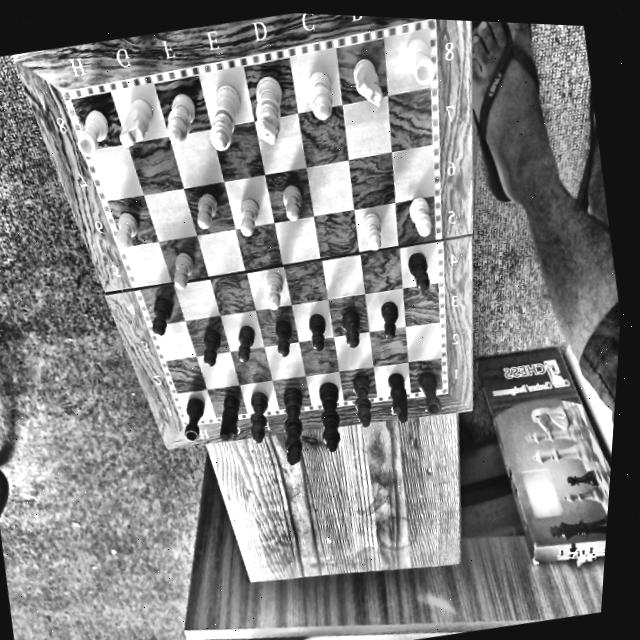black-bishop: (343, 369, 379, 430), (240, 384, 276, 444)
black-king: (270, 381, 316, 466)
black-knight: (209, 389, 249, 445), (381, 368, 418, 424)
black-pawn: (142, 289, 180, 342), (192, 321, 230, 370), (373, 295, 408, 348), (227, 316, 265, 364), (298, 309, 336, 355), (265, 315, 301, 359), (335, 304, 367, 348), (405, 250, 435, 295)
black-queen: (307, 379, 352, 456)
black-rook: (169, 390, 214, 445), (415, 369, 446, 417)
white-bishop: (154, 83, 206, 146), (301, 66, 338, 121)
white-king: (241, 70, 296, 148)
white-knight: (343, 48, 391, 114), (111, 93, 160, 152)
white-pawn: (353, 200, 393, 252), (187, 185, 229, 234), (104, 204, 145, 253), (402, 193, 441, 244), (255, 261, 292, 313), (274, 174, 309, 225), (232, 191, 267, 241), (165, 249, 200, 291)
white-queen: (196, 75, 253, 157)
white-rook: (64, 103, 119, 161), (397, 30, 441, 89)
